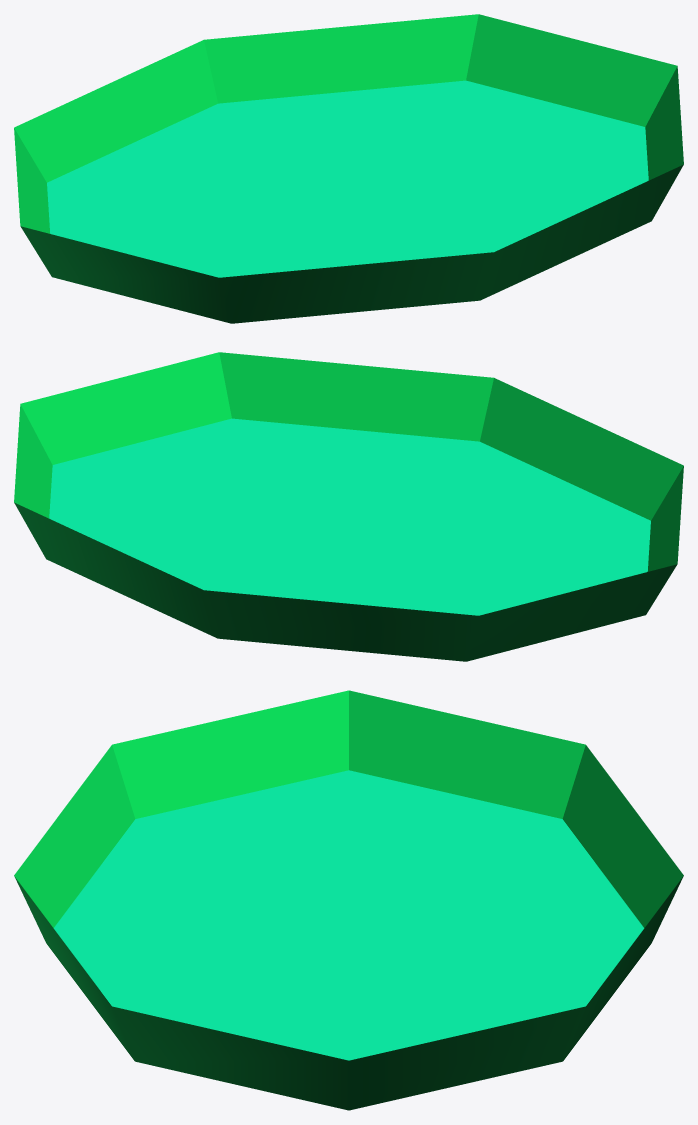
File: Serving_Platter3.fbx
3 views of the same model, one above another, from view 1: azimuth 30°, elevation 25°; view 2: azimuth 150°, elevation 25°; view 3: azimuth 270°, elevation 25° (orthographic). The views are drawn at different scales.
Parts seen in each view (by area): view 1: Serving_Platter3; view 2: Serving_Platter3; view 3: Serving_Platter3.
Boxes of the visible parts, x1,y1,x2,y2 form: Serving_Platter3: [14, 14, 683, 323]; Serving_Platter3: [14, 352, 683, 661]; Serving_Platter3: [14, 690, 683, 1110].
Bounding box in the file's own units: 54.82 × 4.68 × 41.92.
